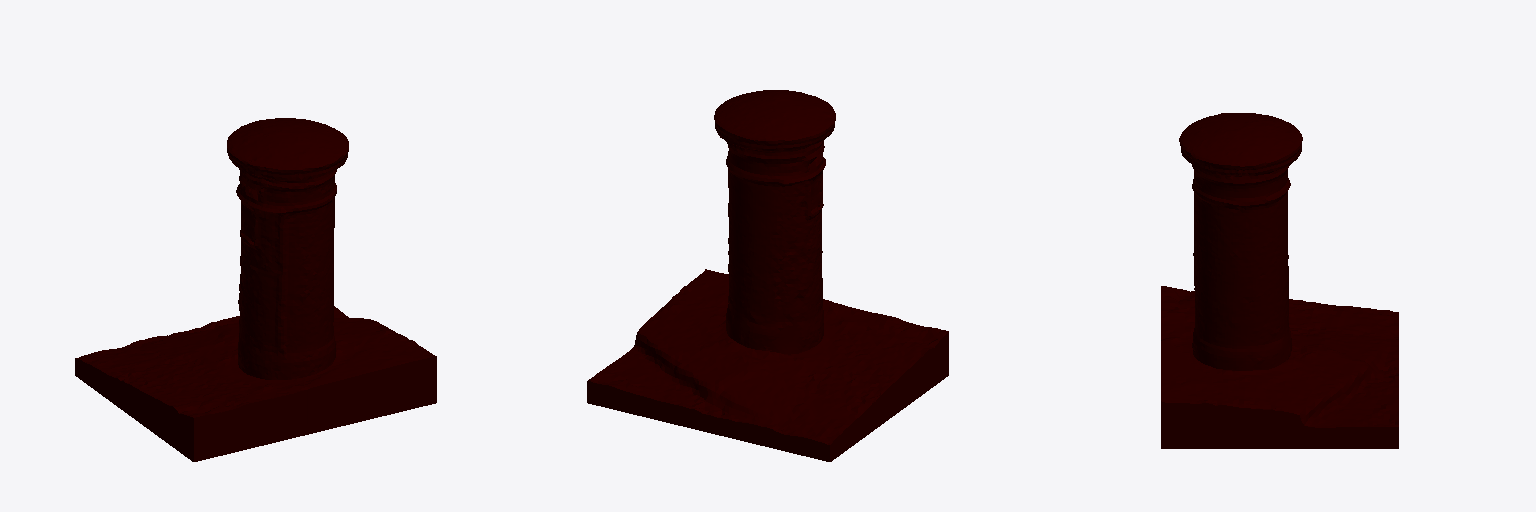
File: postbox.obj
3 views of the same model, side by side, from view 1: azimuth 30°, elevation 25°; view 2: azimuth 150°, elevation 25°; view 3: azimuth 270°, elevation 25° (orthographic).
Visible parts, largest first — view 1: 01_PostBox_Joined_01_PostBox_100k_retopo_retopo.001; view 2: 01_PostBox_Joined_01_PostBox_100k_retopo_retopo.001; view 3: 01_PostBox_Joined_01_PostBox_100k_retopo_retopo.001.
Part boxes in pixels (x1,y1,x2,y2): 01_PostBox_Joined_01_PostBox_100k_retopo_retopo.001: (75,118,436,461); 01_PostBox_Joined_01_PostBox_100k_retopo_retopo.001: (587,90,948,461); 01_PostBox_Joined_01_PostBox_100k_retopo_retopo.001: (1161,113,1398,448).
Bounding box in the file's own units: 0.1481 × 0.1553 × 0.1251.